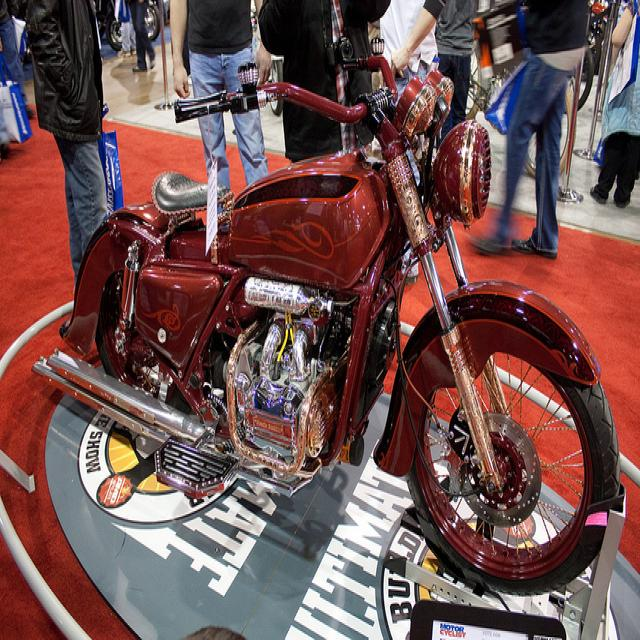motor: (28, 35, 621, 598)
